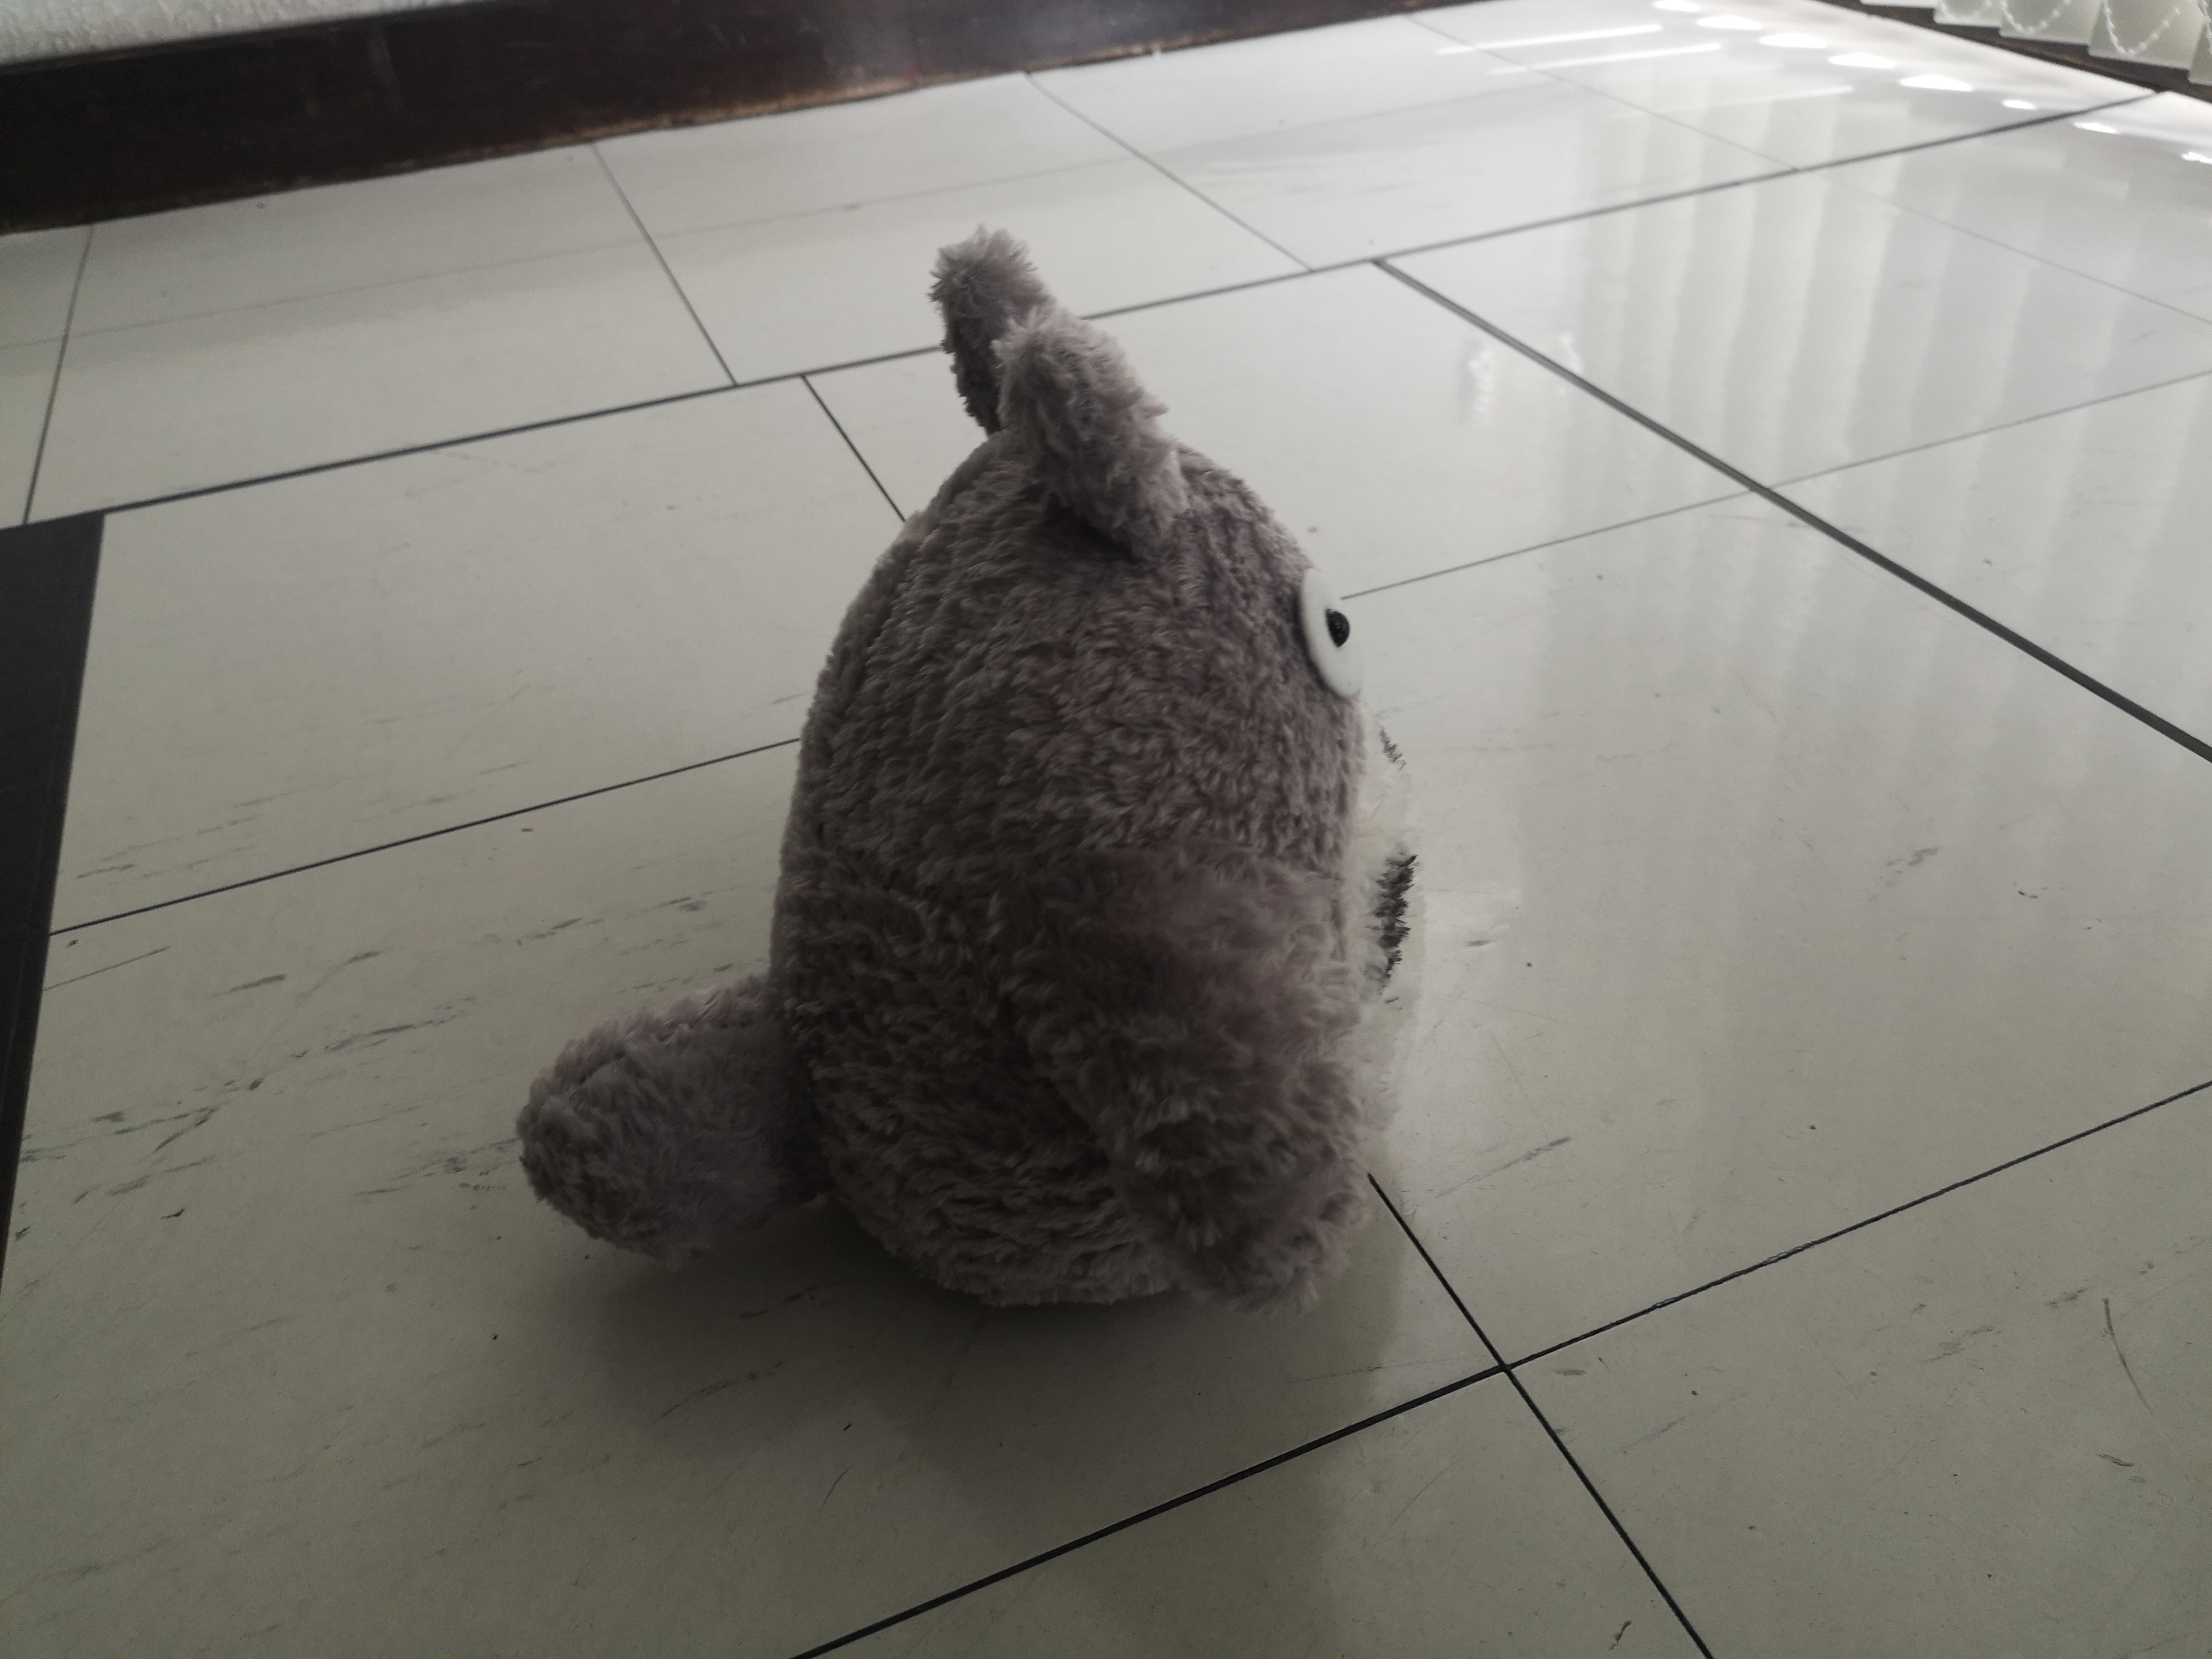totoro: (512, 216, 1444, 1324)
